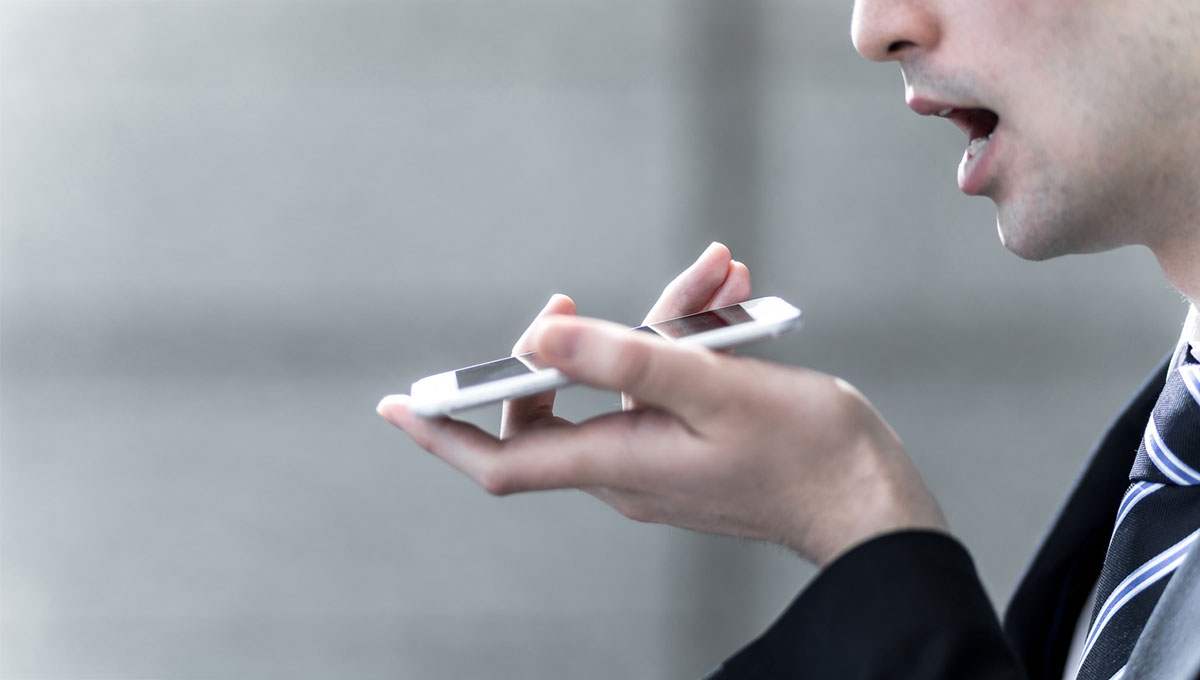phone: (409, 292, 804, 412)
